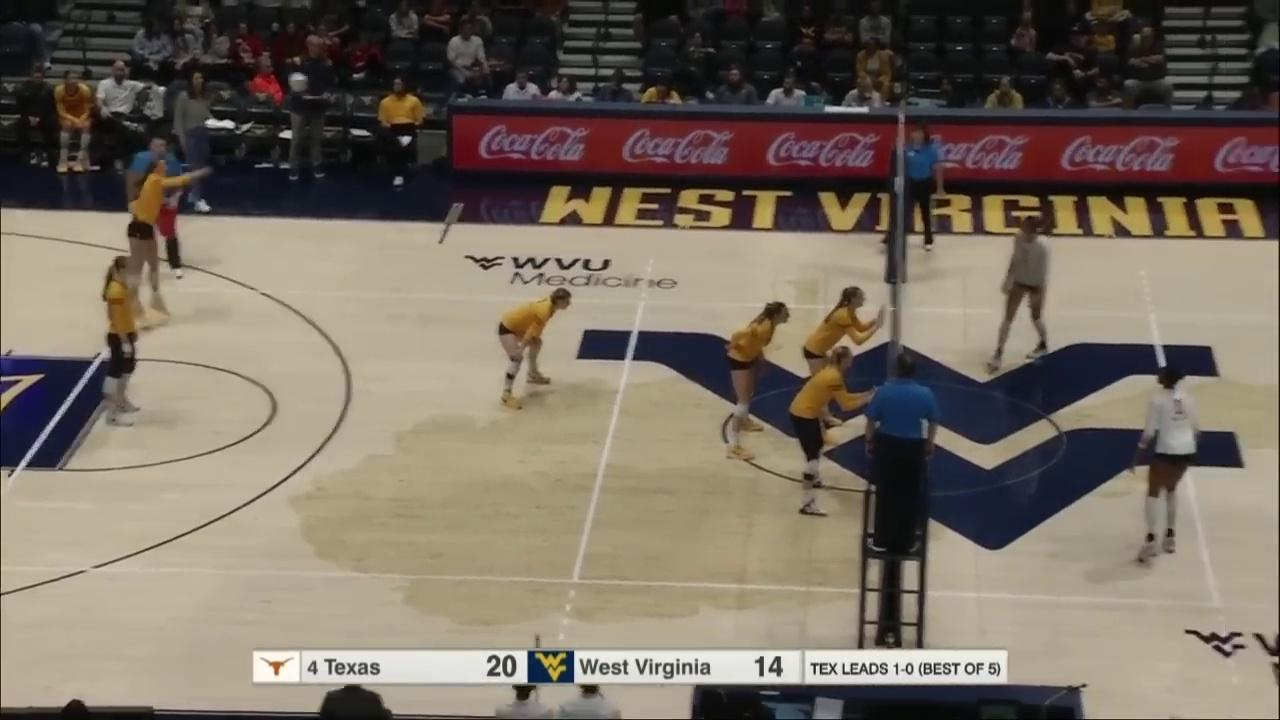player: (792, 345, 882, 517), (129, 156, 211, 326), (800, 286, 886, 444), (1135, 362, 1198, 565), (725, 297, 789, 462), (986, 217, 1054, 370), (495, 290, 572, 409), (101, 258, 143, 426)
refree: (863, 346, 940, 558), (127, 137, 187, 284), (890, 126, 942, 252)
